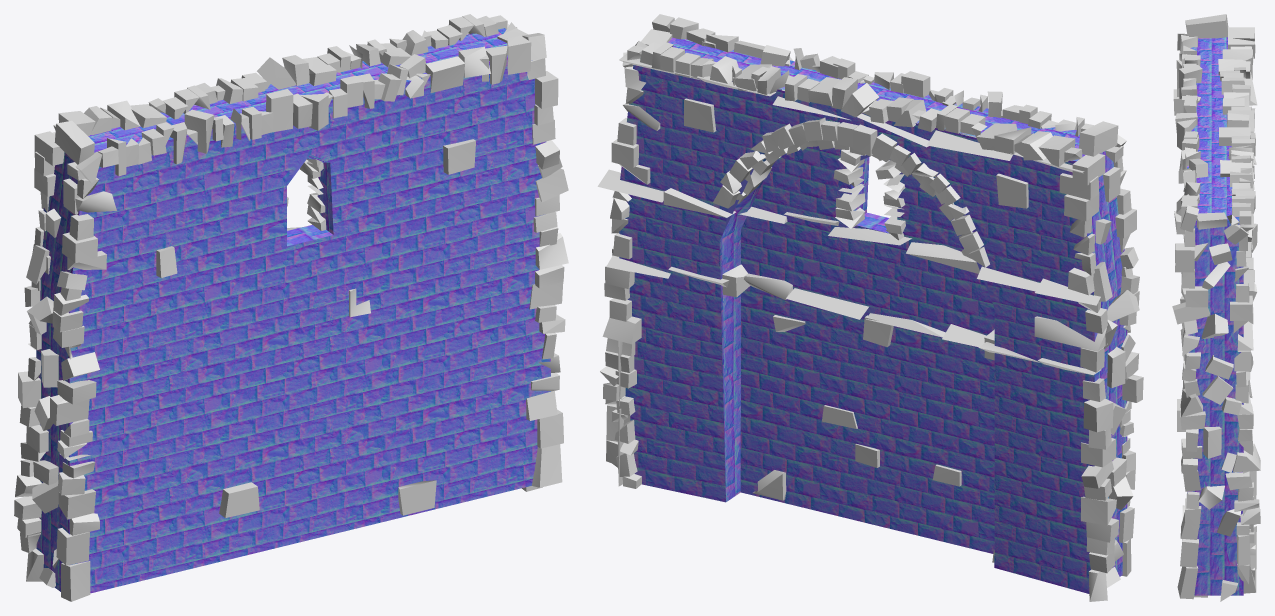
The model's file is RUINED_WALL_LOD2.fbx.
3 views of the same model, side by side, from view 1: azimuth 30°, elevation 25°; view 2: azimuth 150°, elevation 25°; view 3: azimuth 270°, elevation 25° (orthographic). The views are drawn at different scales.
Visible parts, largest first — view 1: RUINED_WALL; view 2: RUINED_WALL; view 3: RUINED_WALL.
Part boxes in pixels (left/top/right/bottom): RUINED_WALL: left=14, top=14, right=568, bottom=601; RUINED_WALL: left=597, top=14, right=1143, bottom=601; RUINED_WALL: left=1172, top=14, right=1260, bottom=601.
Bounding box in the file's own units: 1840 × 1557 × 318.
Materials: 2 (1 with a texture image).
